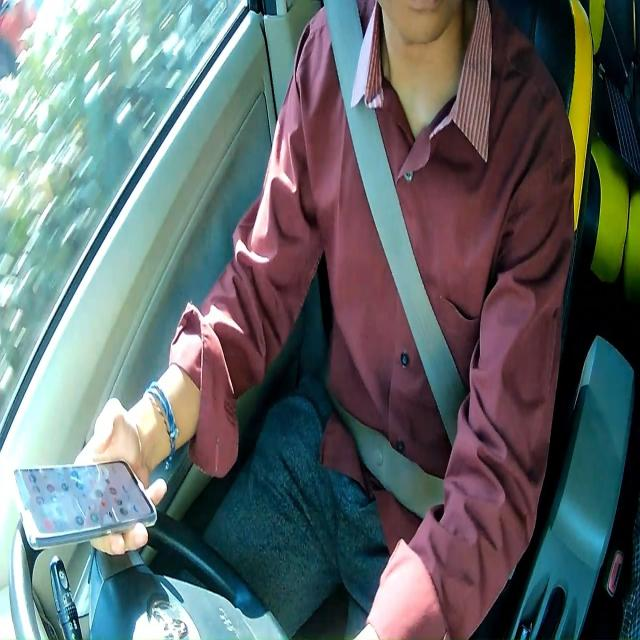phone: (11, 456, 158, 552)
